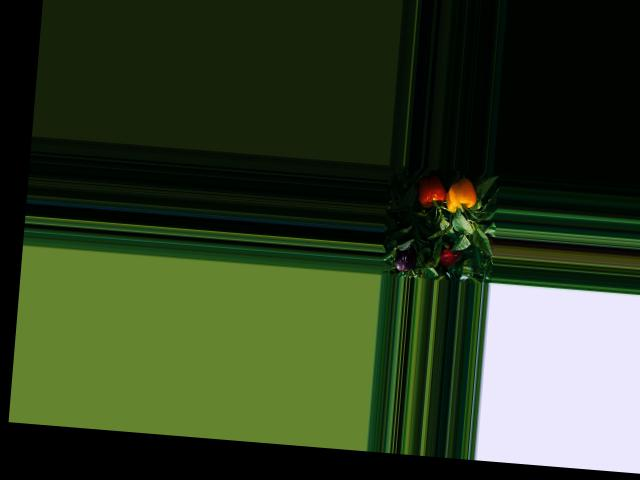bell_pepper: (437, 177, 478, 215)
